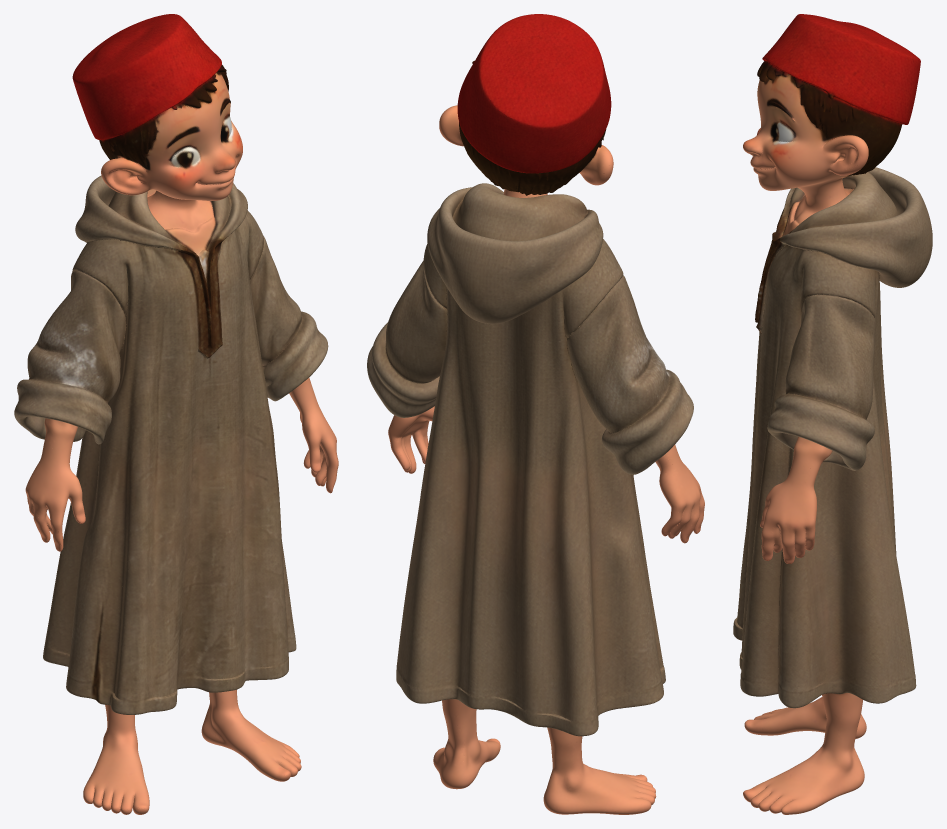
File: kid1__base_basic_pbr.glb
3 views of the same model, side by side, from view 1: azimuth 30°, elevation 25°; view 2: azimuth 150°, elevation 25°; view 3: azimuth 270°, elevation 25° (orthographic). The views are drawn at different scales.
Visible parts, largest first — view 1: model; view 2: model; view 3: model.
Boxes of the visible parts, x1,y1,x2,y2 form: model: [14, 14, 338, 814]; model: [367, 14, 704, 814]; model: [733, 14, 932, 814].
Bounding box in the file's own units: 0.7996 × 1.9 × 0.4605.
1 material, 1 textured.
